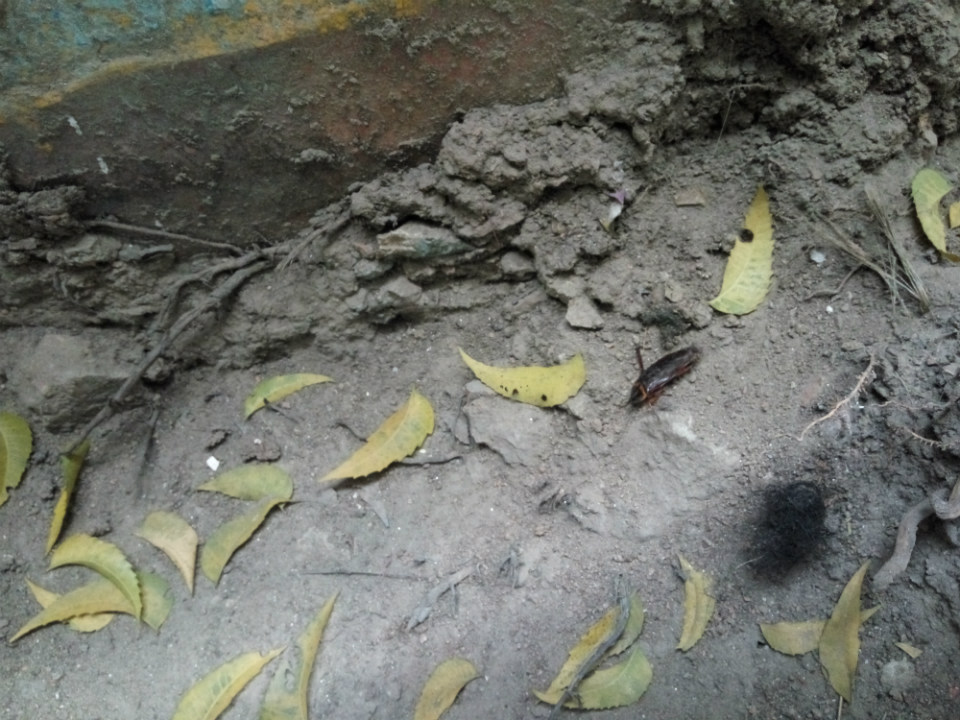cockroach: (553, 310, 775, 421)
